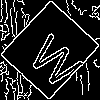W: (25, 25, 92, 91)
